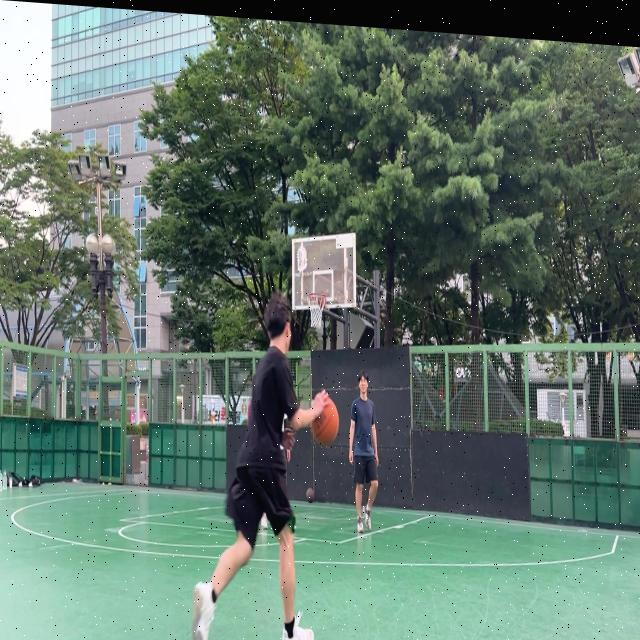basketball: (311, 392, 339, 448), (306, 486, 315, 504)
hoop: (306, 292, 326, 329)
